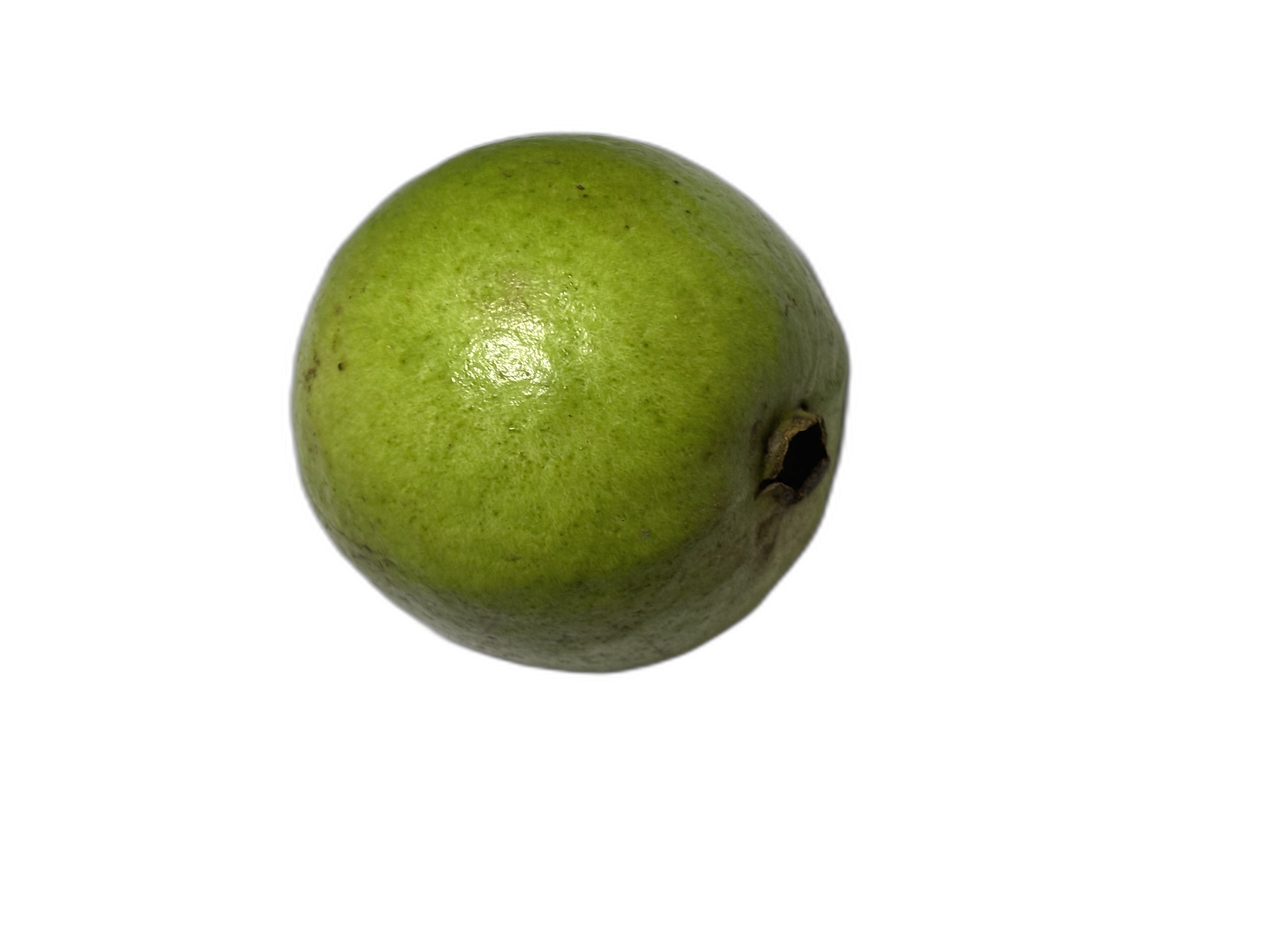guava: (54, 68, 1174, 814)
